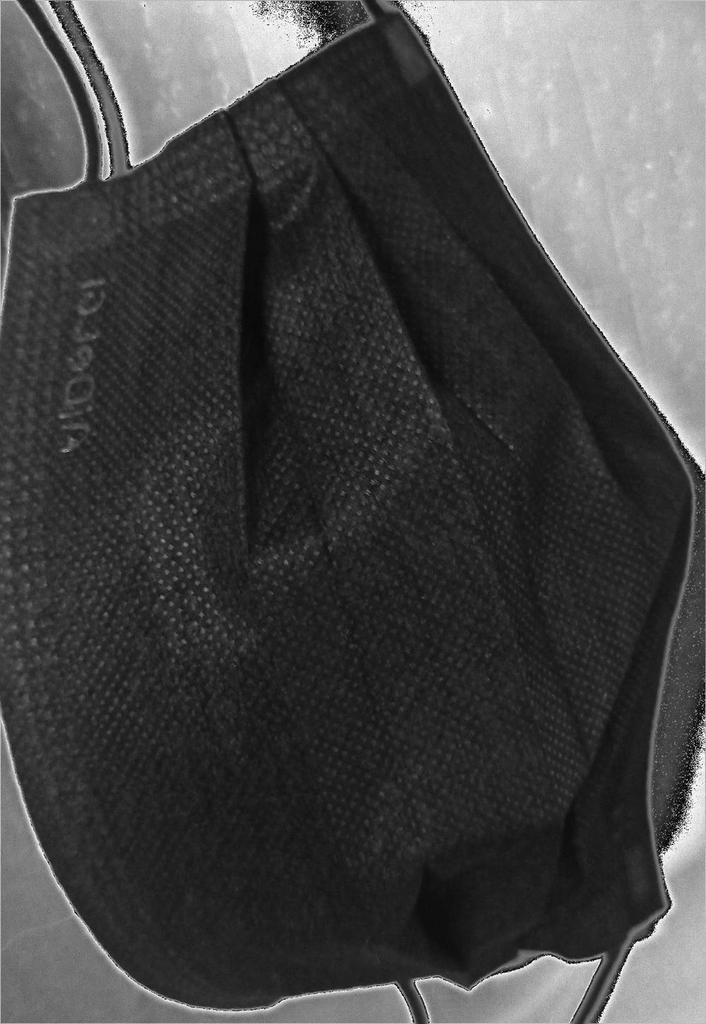Low GSM: (7, 10, 696, 1017)
